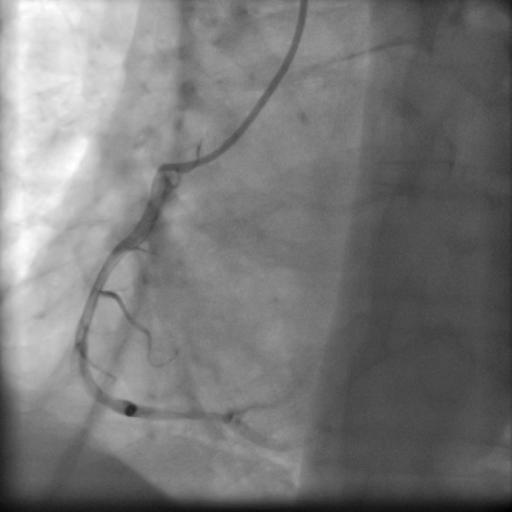Stenosis: (169, 405, 223, 426)
